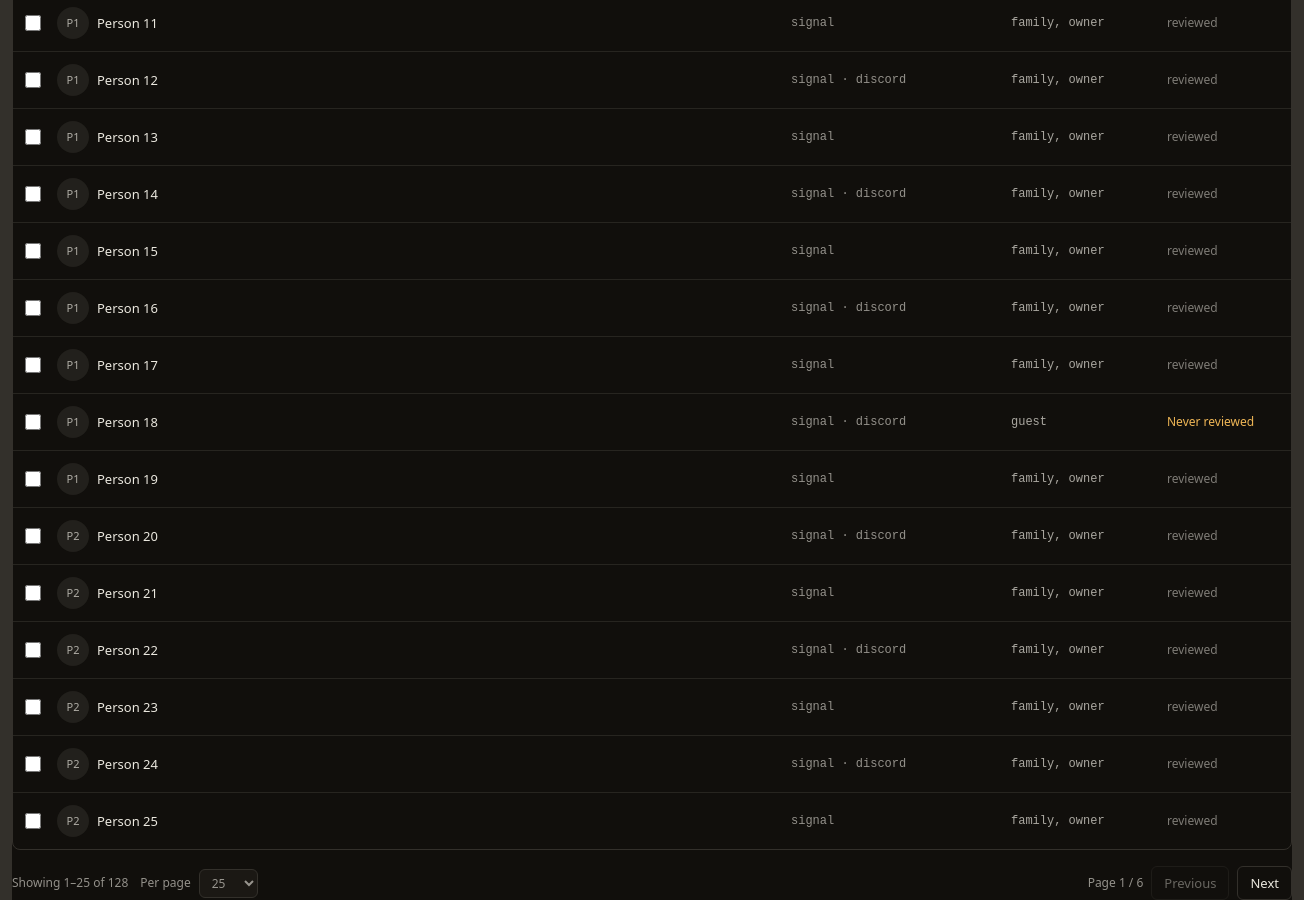
Scenario: the people list footer › shows the second page as 26–50 of 128
(page scrolled)
Click the button "Next" at coordinates (1265, 883), box [1238, 866, 1292, 899]
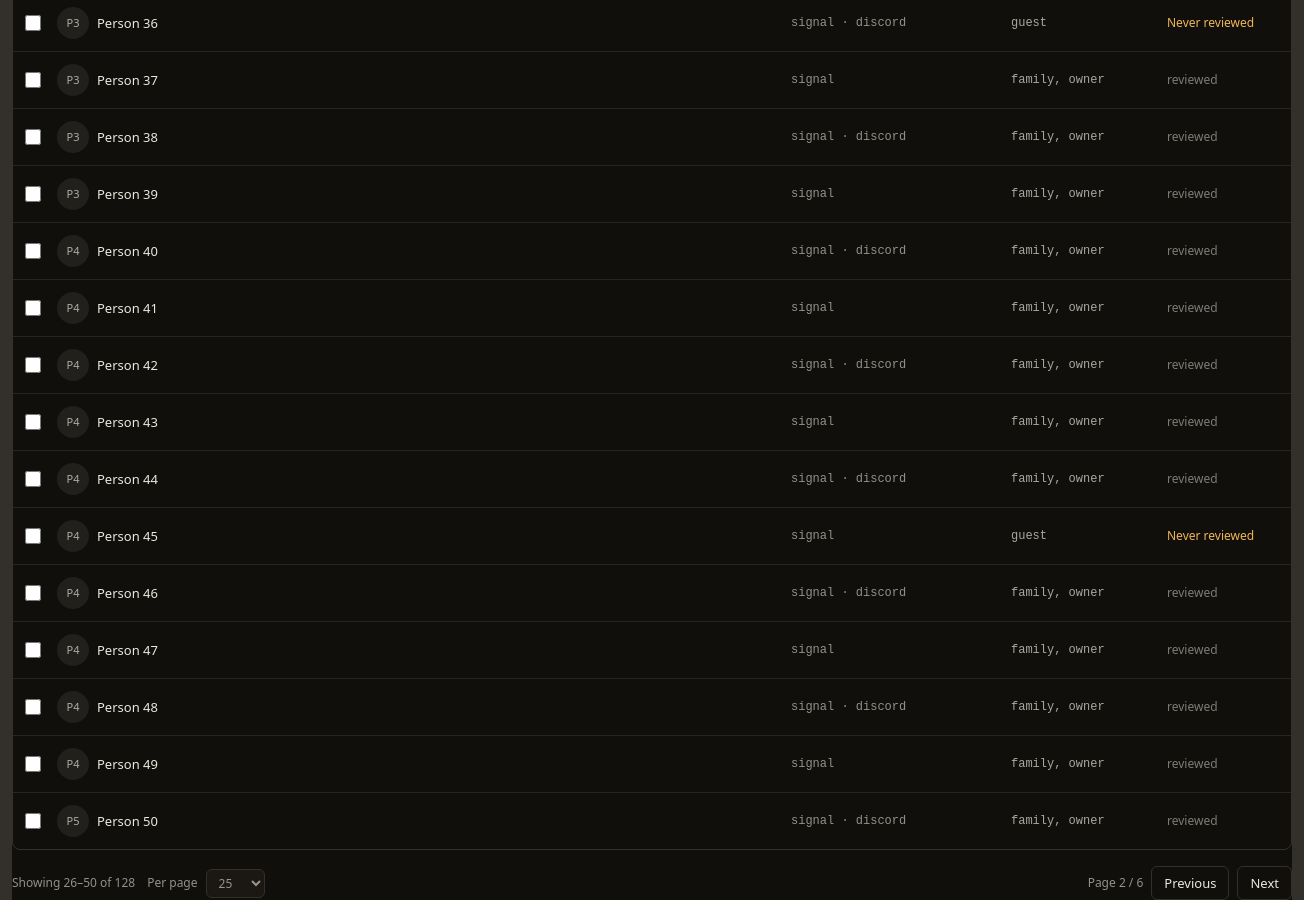
Check: the text "Showing 26–50 of 128" is shown, box [12, 874, 135, 892]
Check: the text "Page 2 / 6" is shown, box [1088, 874, 1143, 892]
